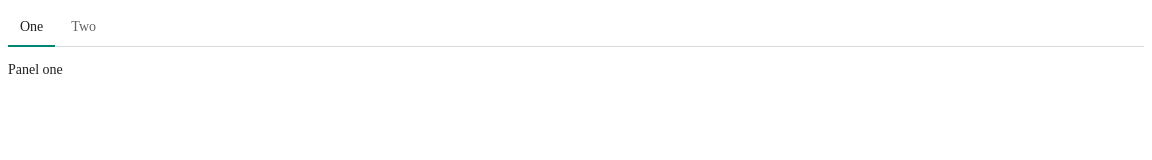
Scenario: Tabs switches panel with arrow keys
Click the tab "One" at (32, 28), box [8,8,55,47]
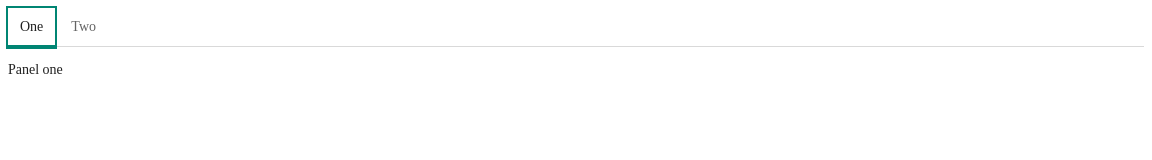
Press Arrowright
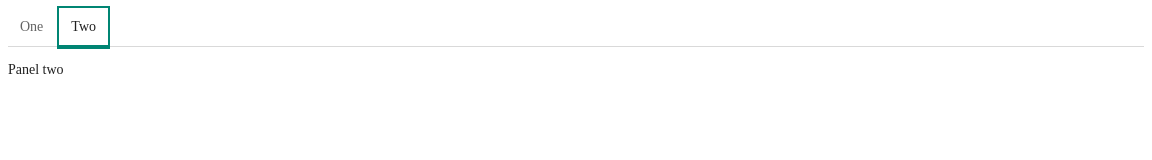
expect the panel reads "Panel two": met, box [8,62,64,77]
